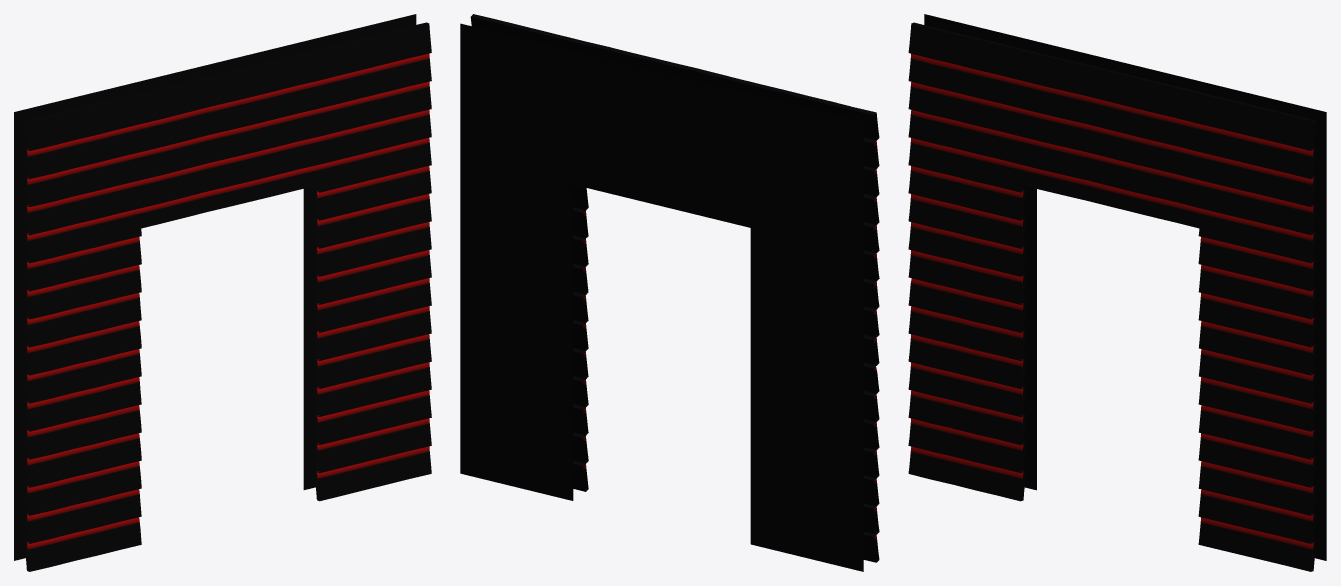
Rendered from SM_House_ExtWall_Door_A.fbx.
3 views of the same model, side by side, from view 1: azimuth 30°, elevation 25°; view 2: azimuth 150°, elevation 25°; view 3: azimuth 330°, elevation 25° (orthographic).
Parts seen in each view (by area): view 1: SM_House_ExtWall_Door_A; view 2: SM_House_ExtWall_Door_A; view 3: SM_House_ExtWall_Door_A.
Boxes of the visible parts, <box> form: SM_House_ExtWall_Door_A: <box>14,14,431,571</box>; SM_House_ExtWall_Door_A: <box>460,14,879,571</box>; SM_House_ExtWall_Door_A: <box>908,14,1326,571</box>.
Size of the model in its own units: 300 by 20.37 by 321.
